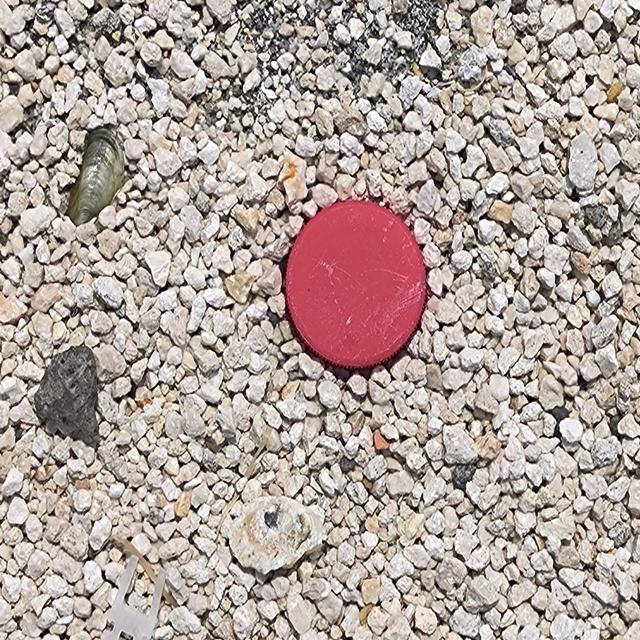plastic_waste: (285, 199, 429, 372)
